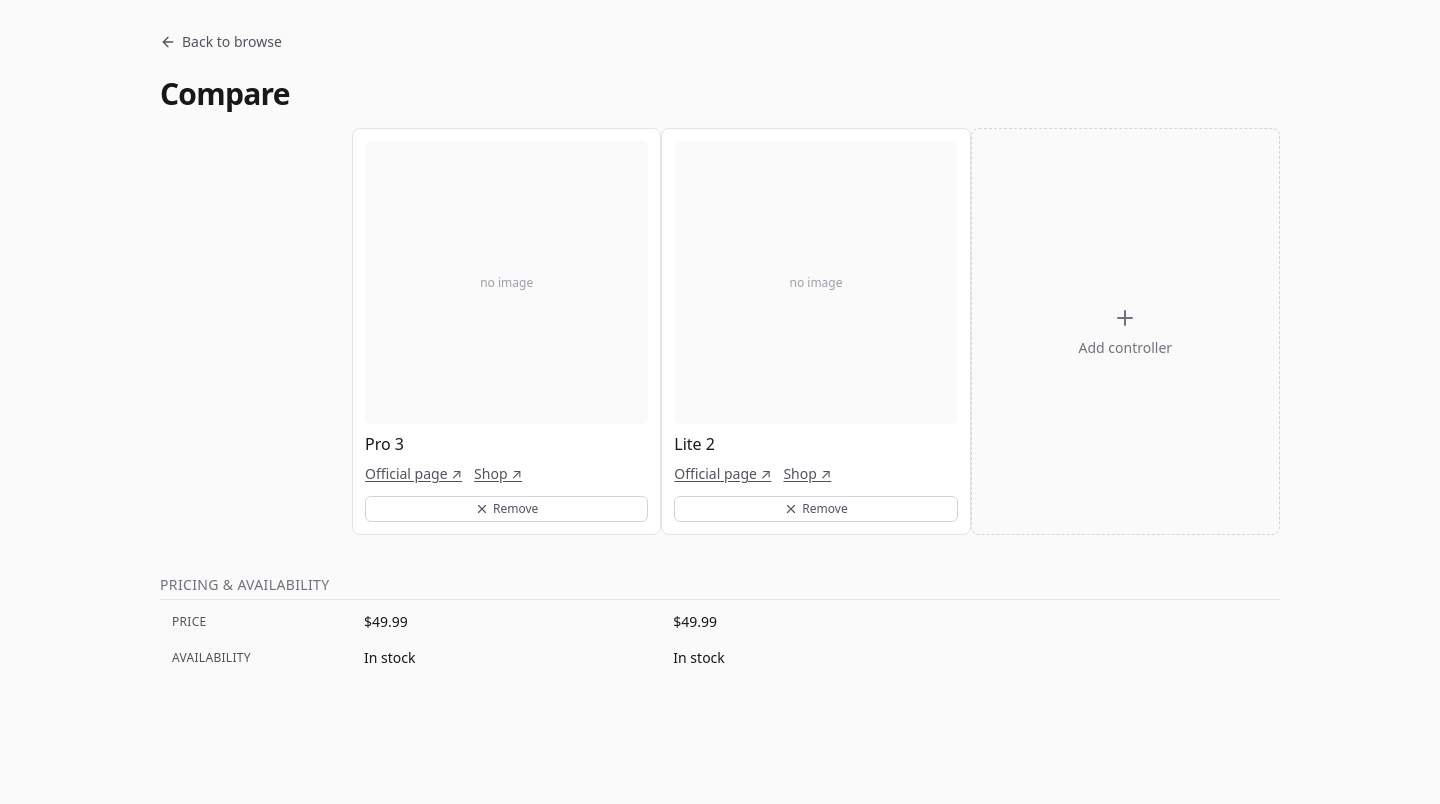
Test case: ComparePage › removing a controller via the header X drops it from the comparison
This screenshot has width=1440, height=804.
Click the button with aria-label "remove Pro 3 from comparison" at x=507, y=509, box [365,496,648,522]
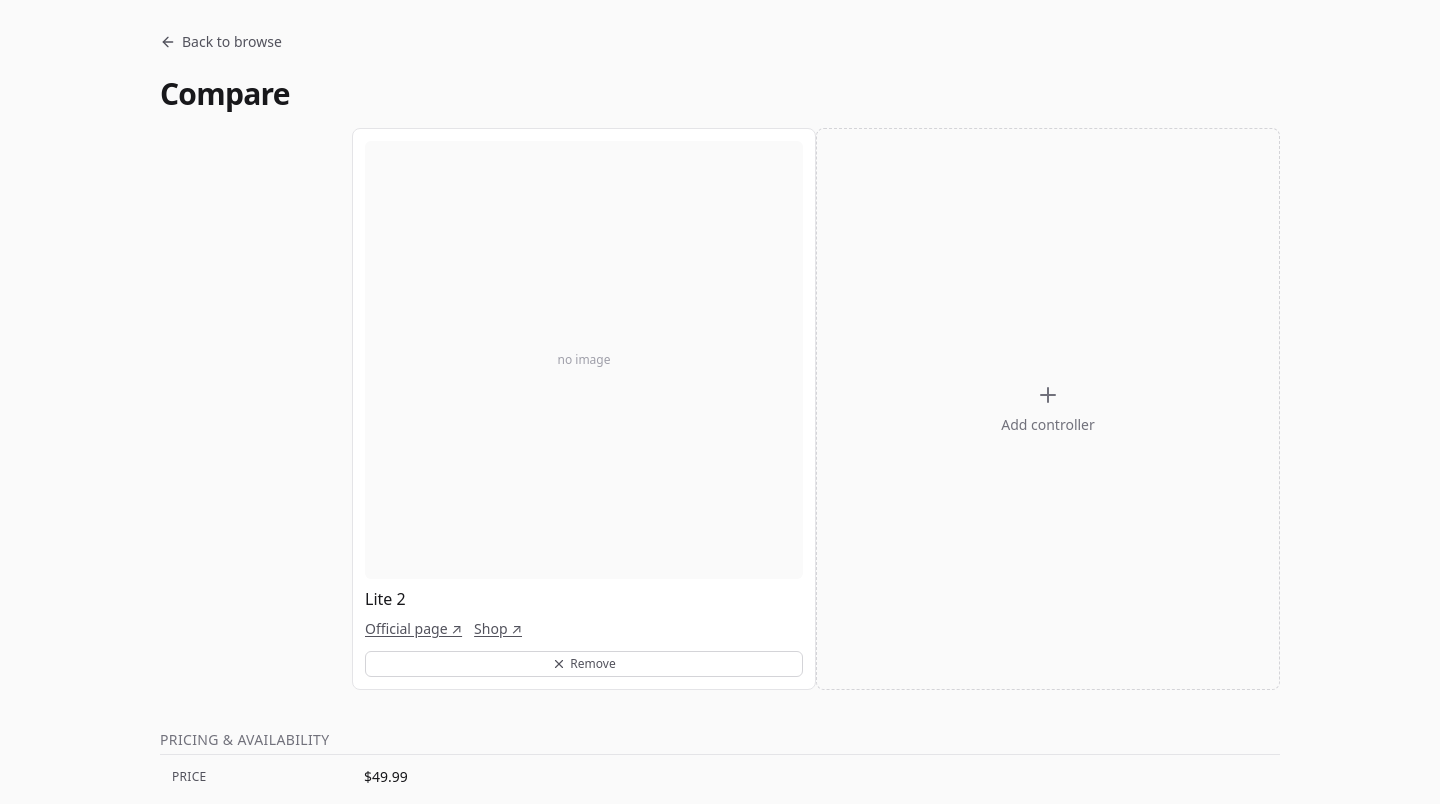
Expected: the heading "Lite 2" is shown, [365,588,406,610]
Expected: the heading "Pro 3" is gone
